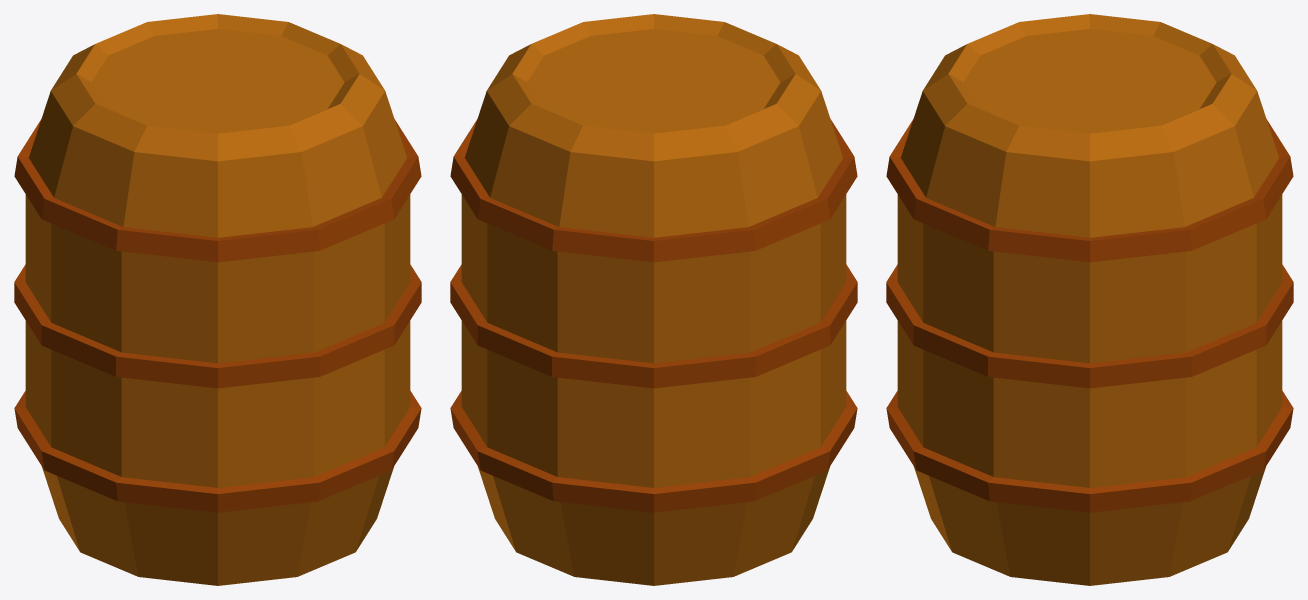
Rendered from vas.fbx.
3 views of the same model, side by side, from view 1: azimuth 30°, elevation 25°; view 2: azimuth 150°, elevation 25°; view 3: azimuth 270°, elevation 25° (orthographic).
Parts seen in each view (by area): view 1: Cylinder; view 2: Cylinder; view 3: Cylinder.
Part boxes in pixels (bbox=[...]): Cylinder: bbox=[14, 14, 421, 585]; Cylinder: bbox=[450, 14, 857, 585]; Cylinder: bbox=[886, 14, 1293, 585].
Bounding box in the file's own units: 53.79 × 64.82 × 53.79.
